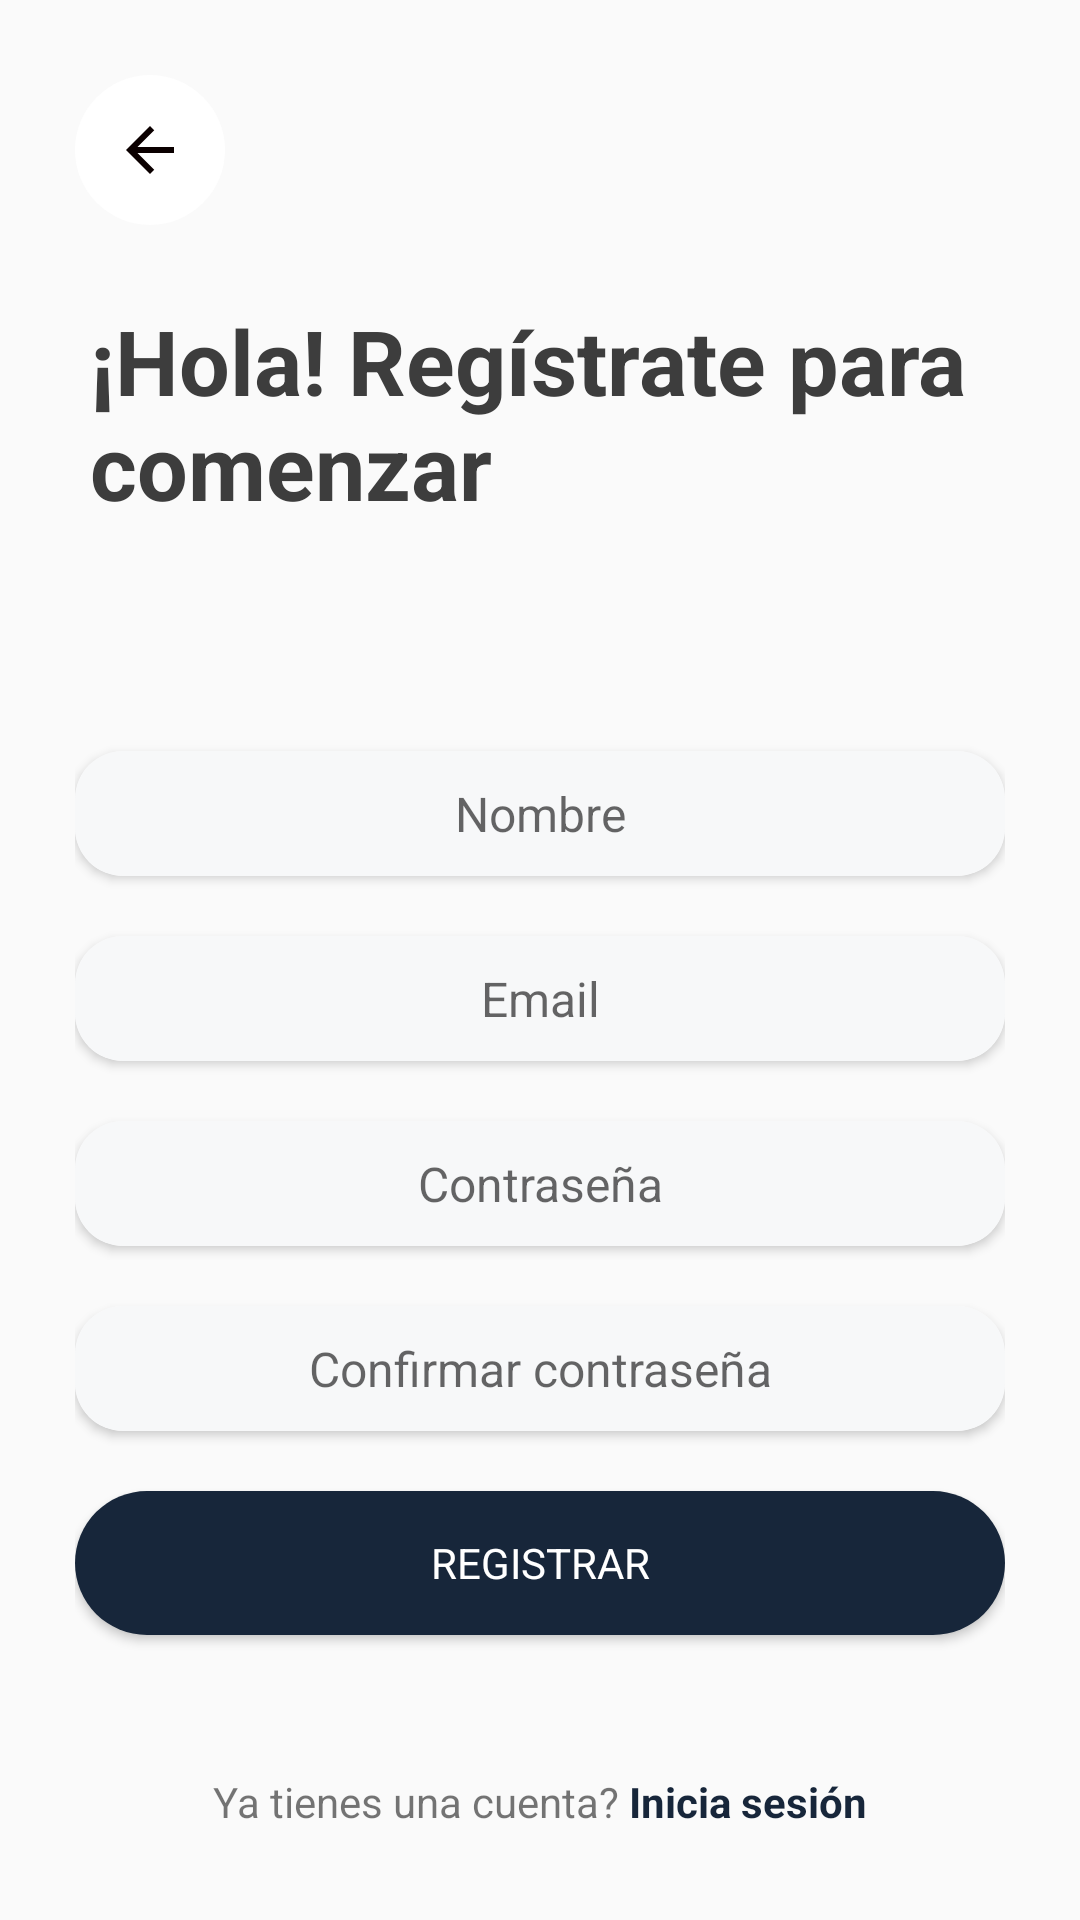

Screen size 1080w x 1920h. Icon name, then its box in pixels as (x1, y1, x2, y2):
Volver: (126, 126, 174, 174)
